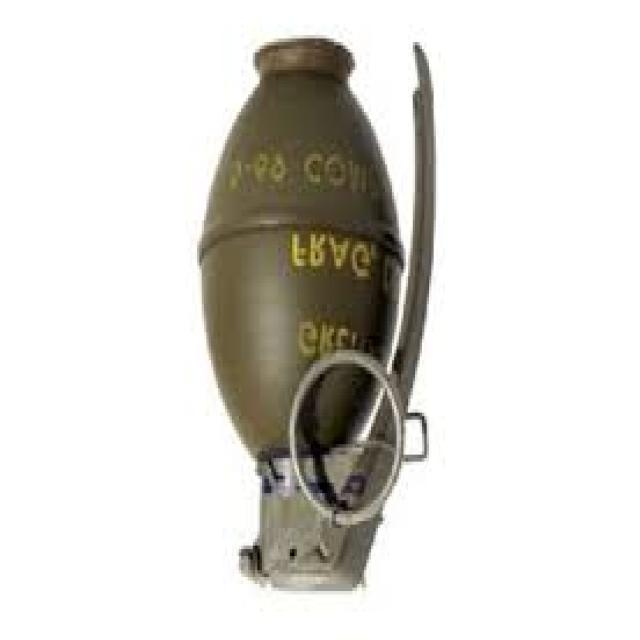grenade: (195, 32, 450, 603)
